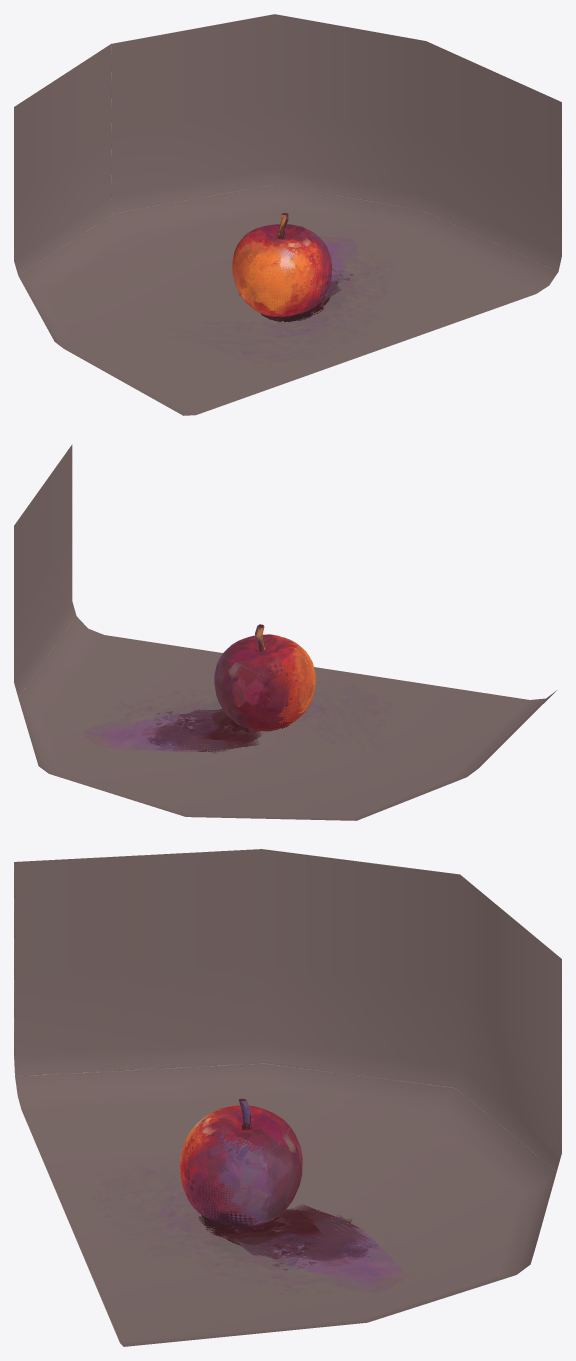
The model's file is apfel.glb.
The picture shows the model from 3 angles, top to bottom: view 1: azimuth 30°, elevation 25°; view 2: azimuth 150°, elevation 25°; view 3: azimuth 270°, elevation 25°; orthographic projection. The views are drawn at different scales.
Visible parts, largest first — view 1: Plane, Cube; view 2: Plane, Cube; view 3: Plane, Cube.
Part boxes in pixels (box(x1,y1,x2,y2)): Plane: box(14, 14, 561, 415); Cube: box(232, 213, 331, 316); Plane: box(14, 444, 556, 820); Cube: box(214, 624, 315, 731); Plane: box(14, 849, 561, 1346); Cube: box(180, 1098, 302, 1226).
Bounding box in the file's own units: 9.12 × 3.5 × 7.51.
Materials: 1 (1 with a texture image).
